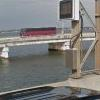Bus: (19, 24, 62, 41)
